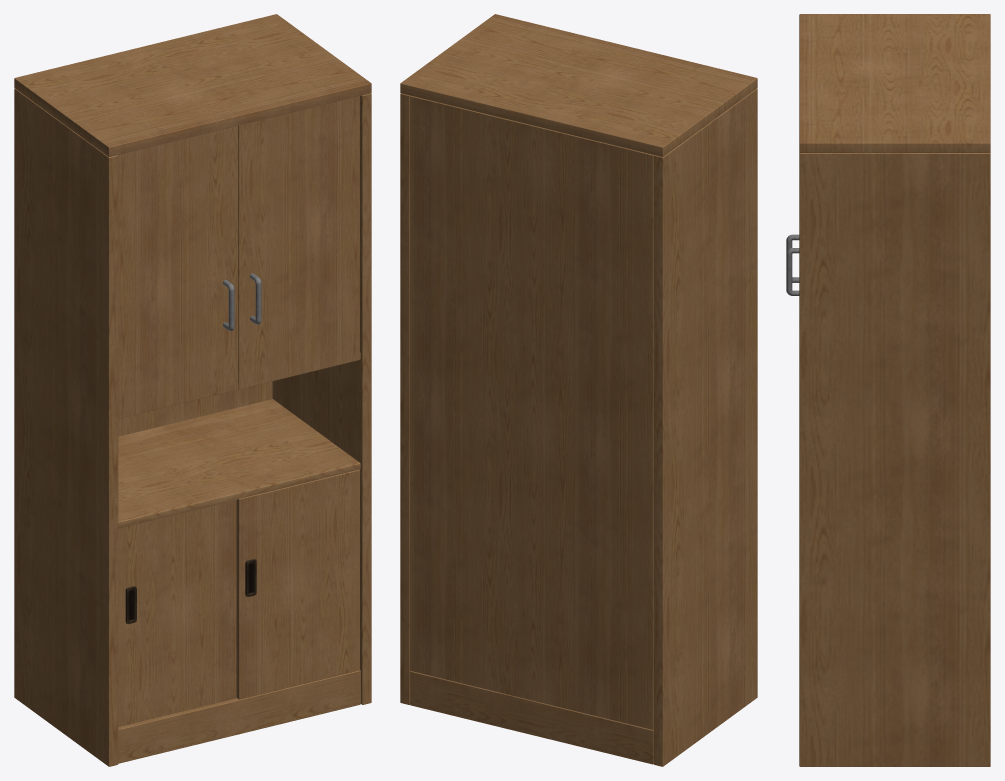
File: Shelf_03_Narrow.FBX
3 renders of one model, left to right at view 1: azimuth 30°, elevation 25°; view 2: azimuth 150°, elevation 25°; view 3: azimuth 270°, elevation 25°, orthographic.
Parts seen in each view (by area): view 1: Shelf_03_Narrow; view 2: Shelf_03_Narrow; view 3: Shelf_03_Narrow.
Part boxes in pixels (x1=…): Shelf_03_Narrow: x1=14, y1=14, x2=371, y2=766; Shelf_03_Narrow: x1=400, y1=14, x2=757, y2=766; Shelf_03_Narrow: x1=786, y1=14, x2=990, y2=766.
Bounding box in the file's own units: 80 × 180 × 53.46.
